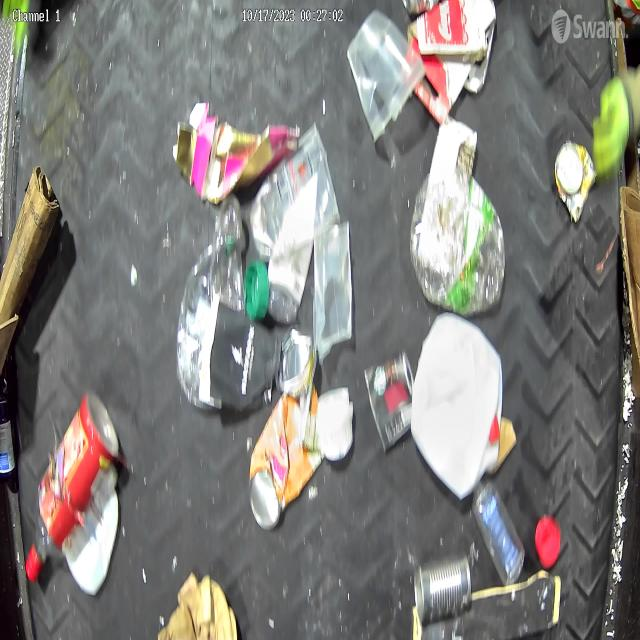milk-jug: (411, 315, 504, 501)
